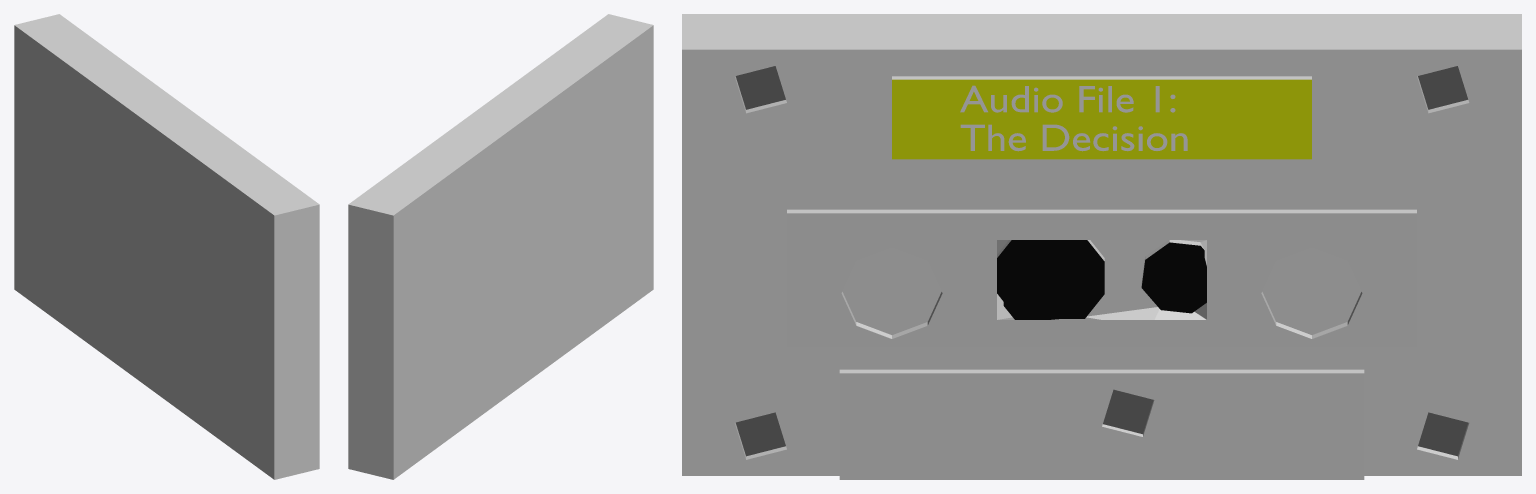
File: Cassette Tape 1.fbx
The picture shows the model from 3 angles, left to right: view 1: azimuth 30°, elevation 25°; view 2: azimuth 150°, elevation 25°; view 3: azimuth 270°, elevation 25°; orthographic projection. The views are drawn at different scales.
Visible parts, largest first — view 1: Cube; view 2: Cube; view 3: Cube, Text.
Boxes of the visible parts, x1,y1,x2,y2 form: Cube: [14, 14, 319, 479]; Cube: [348, 14, 653, 479]; Cube: [682, 14, 1521, 479]; Text: [960, 85, 1187, 151].
Bounding box in the file's own units: 65.87 × 331 × 591.
